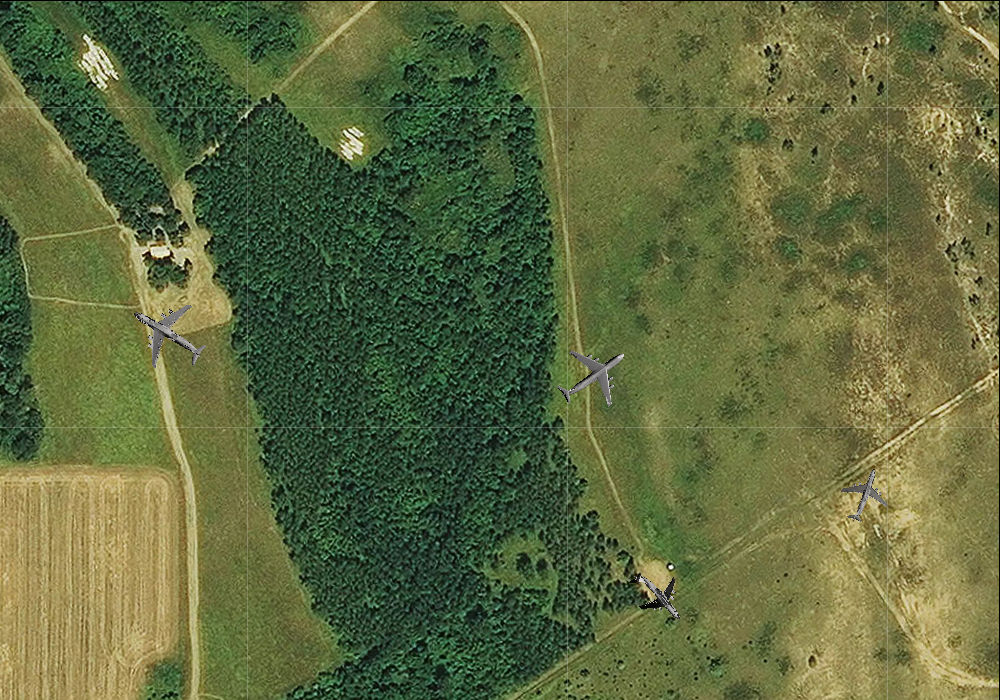plane: (113, 281, 221, 388), (541, 324, 644, 426), (616, 555, 698, 639), (830, 460, 898, 530)
